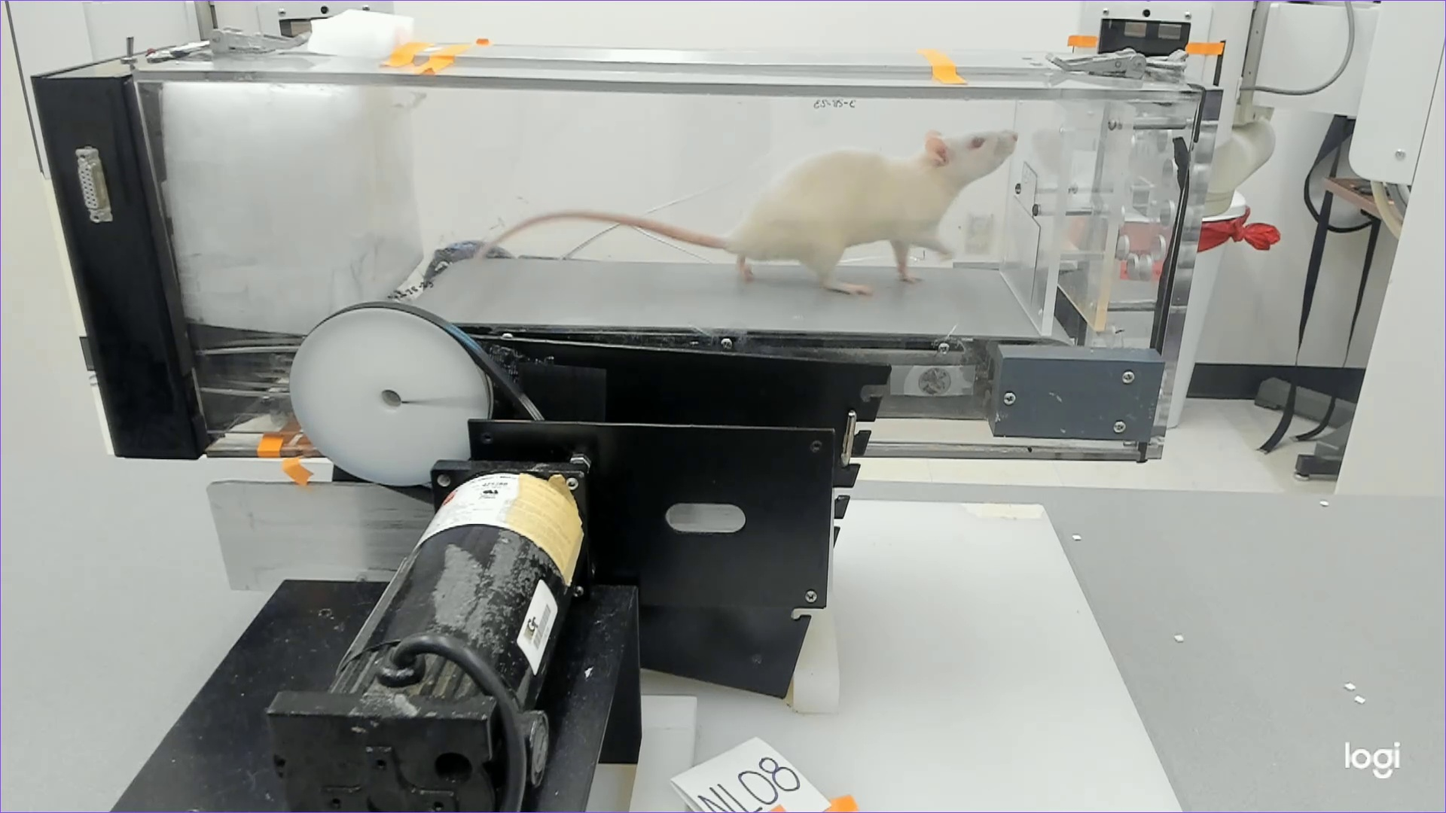right_paw: (823, 275, 873, 296)
right_shank: (811, 225, 846, 276)
right_thigh: (762, 205, 840, 238)
